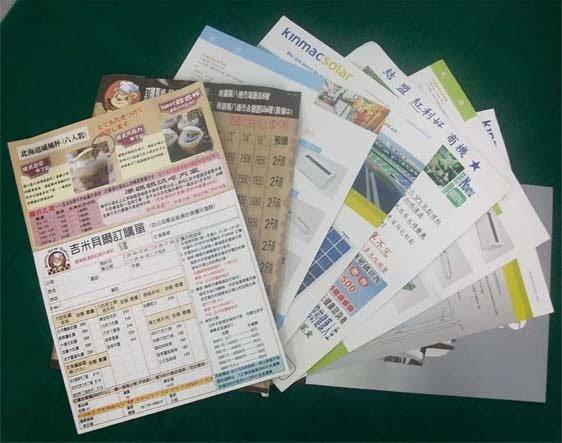paper: (8, 75, 299, 432), (286, 42, 552, 400)
